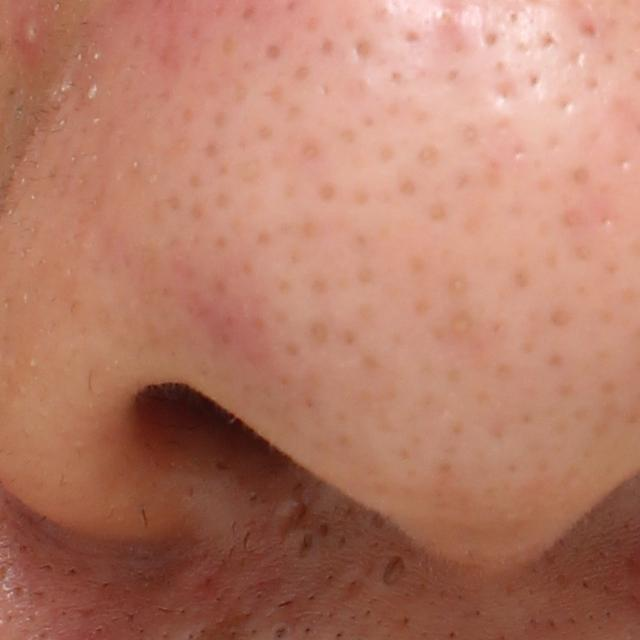atrophic_scar: (281, 497, 325, 542)
pustule: (17, 15, 47, 50)
